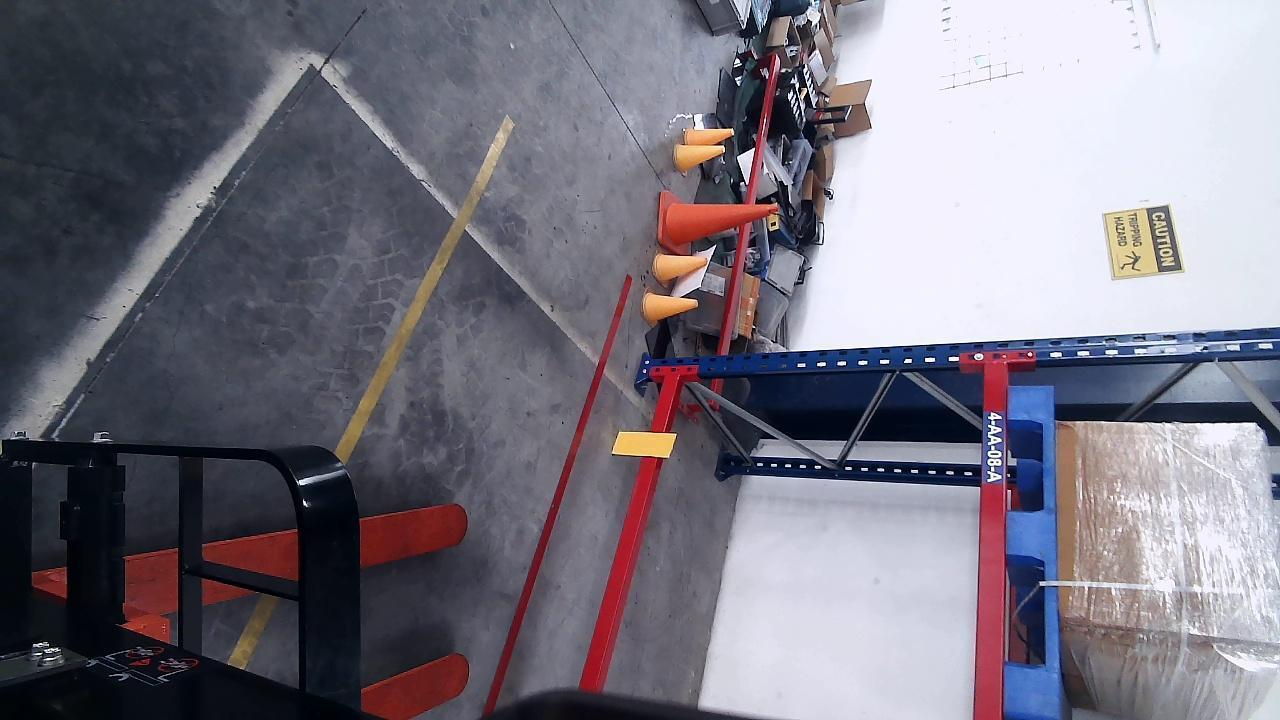red_line: (478, 276, 636, 718)
yellow_line: (334, 115, 518, 463)
